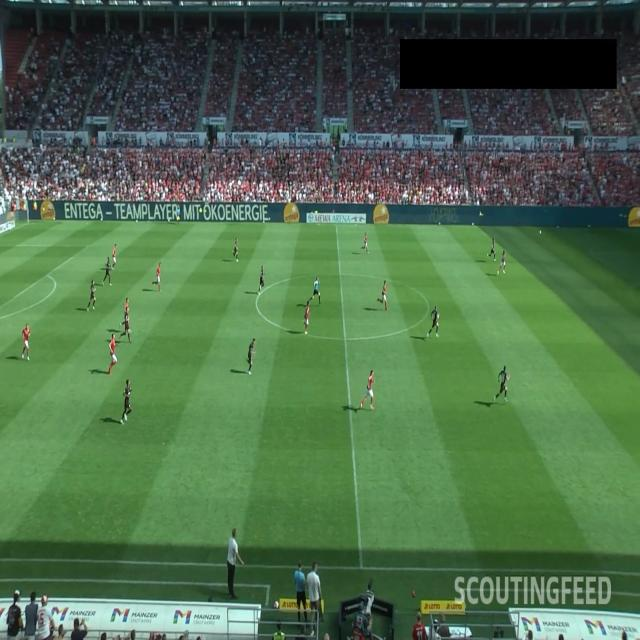ball: (538, 230, 542, 234)
